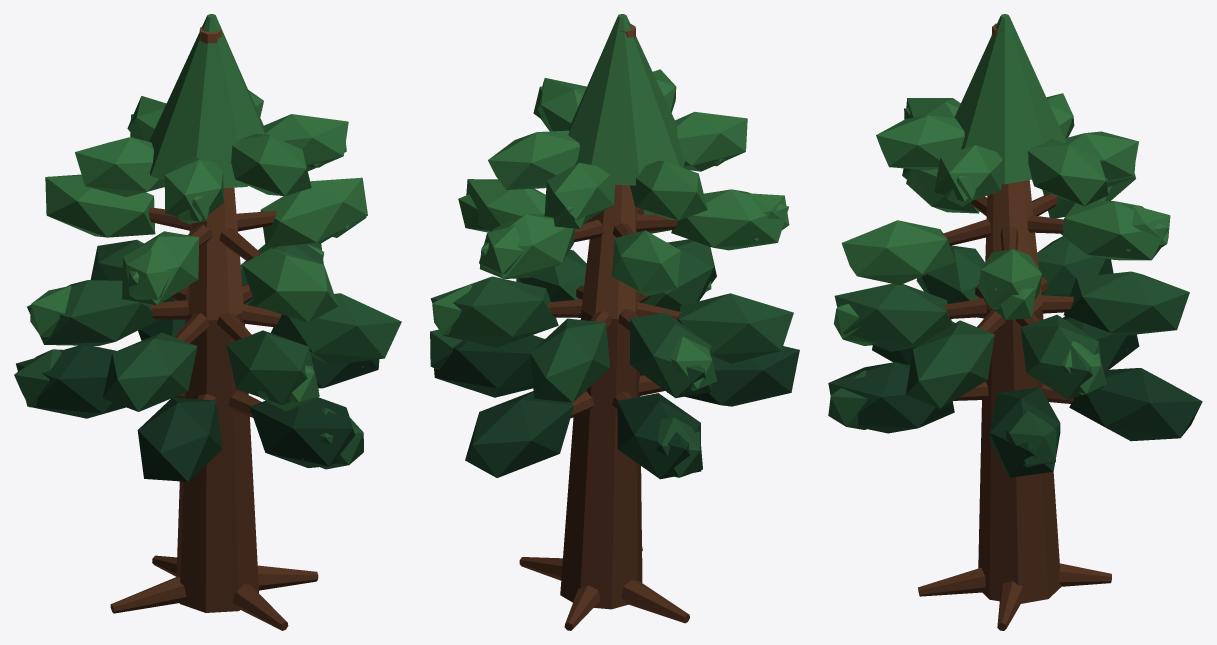
The model's file is tree_pine_f.glb.
3 views of the same model, side by side, from view 1: azimuth 30°, elevation 25°; view 2: azimuth 150°, elevation 25°; view 3: azimuth 270°, elevation 25° (orthographic). The views are drawn at different scales.
Visible parts, largest first — view 1: Trunk_Lower.005, Leader_Needles.005, Needles_1_4.005, Needles_2_6.002, Needles_2_4.005, Needles_1_5.005, Needles_3_5.005, Needles_2_3.005, Needles_3_2.005, Needles_3_4.005, Trunk_Upper.005, Needles_2_5.005 (+25 smaller); view 2: Trunk_Lower.005, Leader_Needles.005, Needles_1_2.005, Needles_2_1.005, Needles_2_4.005, Needles_2_2.005, Needles_3_3.005, Needles_1_1.005, Needles_1_3.005, Trunk_Upper.005, Needles_2_3.005, Needles_1_4.005 (+22 smaller); view 3: Trunk_Lower.005, Leader_Needles.005, Needles_1_2.005, Needles_2_2.005, Needles_2_5.005, Needles_2_6.002, Needles_3_4.005, Needles_1_5.005, Needles_3_1.005, Needles_2_1.005, Needles_4_6.001, Needles_4_4.004 (+25 smaller).
Boxes of the visible parts, x1,y1,x2,y2 form: Trunk_Lower.005: (176, 313, 258, 612); Leader_Needles.005: (149, 14, 265, 188); Needles_1_4.005: (137, 397, 222, 481); Needles_2_6.002: (271, 293, 401, 365); Needles_2_4.005: (103, 332, 197, 411); Needles_1_5.005: (249, 397, 355, 468); Needles_3_5.005: (260, 177, 367, 247); Needles_2_3.005: (27, 280, 159, 345); Needles_3_2.005: (45, 174, 155, 237); Needles_3_4.005: (242, 248, 338, 322); Trunk_Upper.005: (186, 27, 243, 320); Needles_2_5.005: (226, 330, 318, 405); Trunk_Lower.005: (560, 309, 642, 609); Leader_Needles.005: (568, 14, 685, 185); Needles_1_2.005: (465, 391, 573, 477); Needles_2_1.005: (430, 276, 558, 347); Needles_2_4.005: (677, 293, 793, 363); Needles_2_2.005: (530, 318, 609, 402); Needles_3_3.005: (671, 189, 788, 250); Needles_1_1.005: (434, 335, 544, 397); Needles_1_3.005: (617, 393, 701, 479); Trunk_Upper.005: (581, 23, 638, 319); Needles_2_3.005: (630, 312, 711, 398); Needles_1_4.005: (667, 346, 799, 406); Trunk_Lower.005: (978, 305, 1061, 603); Leader_Needles.005: (954, 14, 1065, 184); Needles_1_2.005: (1069, 368, 1202, 441); Needles_2_2.005: (1063, 271, 1189, 335); Needles_2_5.005: (834, 283, 952, 351); Needles_2_6.002: (905, 320, 994, 408); Needles_3_4.005: (841, 220, 955, 285); Needles_1_5.005: (828, 362, 954, 433); Needles_3_1.005: (1061, 201, 1168, 260); Needles_2_1.005: (1020, 314, 1104, 399); Needles_4_6.001: (1028, 138, 1108, 206); Needles_4_4.004: (876, 115, 964, 170).
Size of the model in its own units: 3.27 by 5.72 by 3.42.
